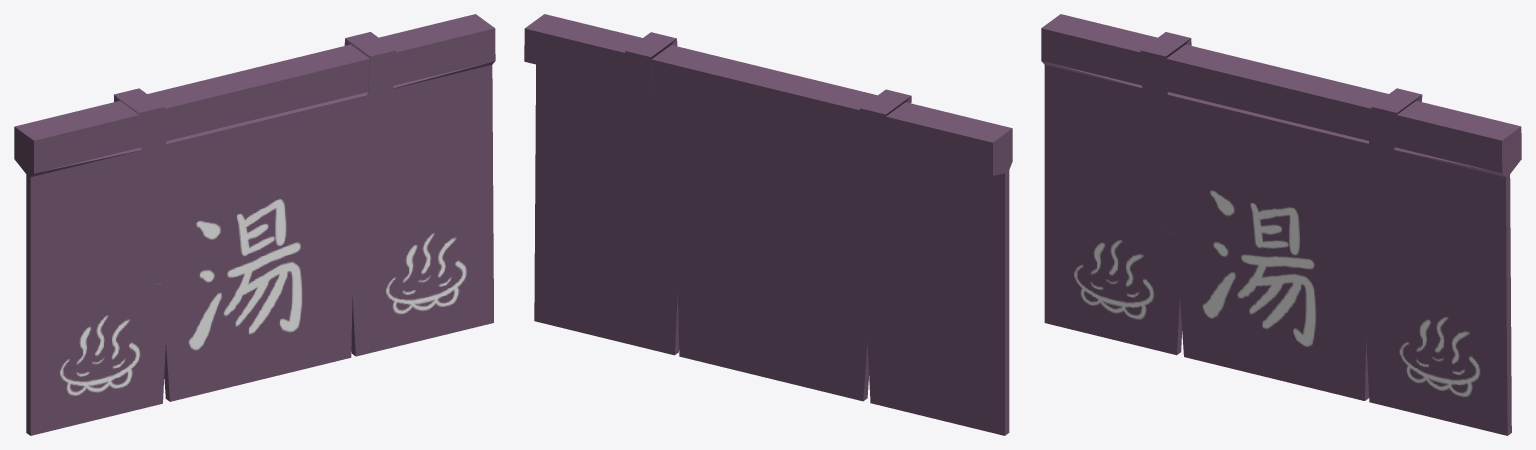
The model's file is Noren_Purple_Bath.gltf.
The picture shows the model from 3 angles, left to right: view 1: azimuth 30°, elevation 25°; view 2: azimuth 150°, elevation 25°; view 3: azimuth 330°, elevation 25°; orthographic projection.
Parts seen in each view (by area): view 1: Noren_Purple_Bath; view 2: Noren_Purple_Bath; view 3: Noren_Purple_Bath.
Part boxes in pixels (x1,y1,x2,y2): Noren_Purple_Bath: [14, 14, 495, 435]; Noren_Purple_Bath: [524, 14, 1012, 435]; Noren_Purple_Bath: [1041, 14, 1521, 435].
Size of the model in its own units: 1 by 0.6267 by 0.0953.
1 material, 1 textured.
